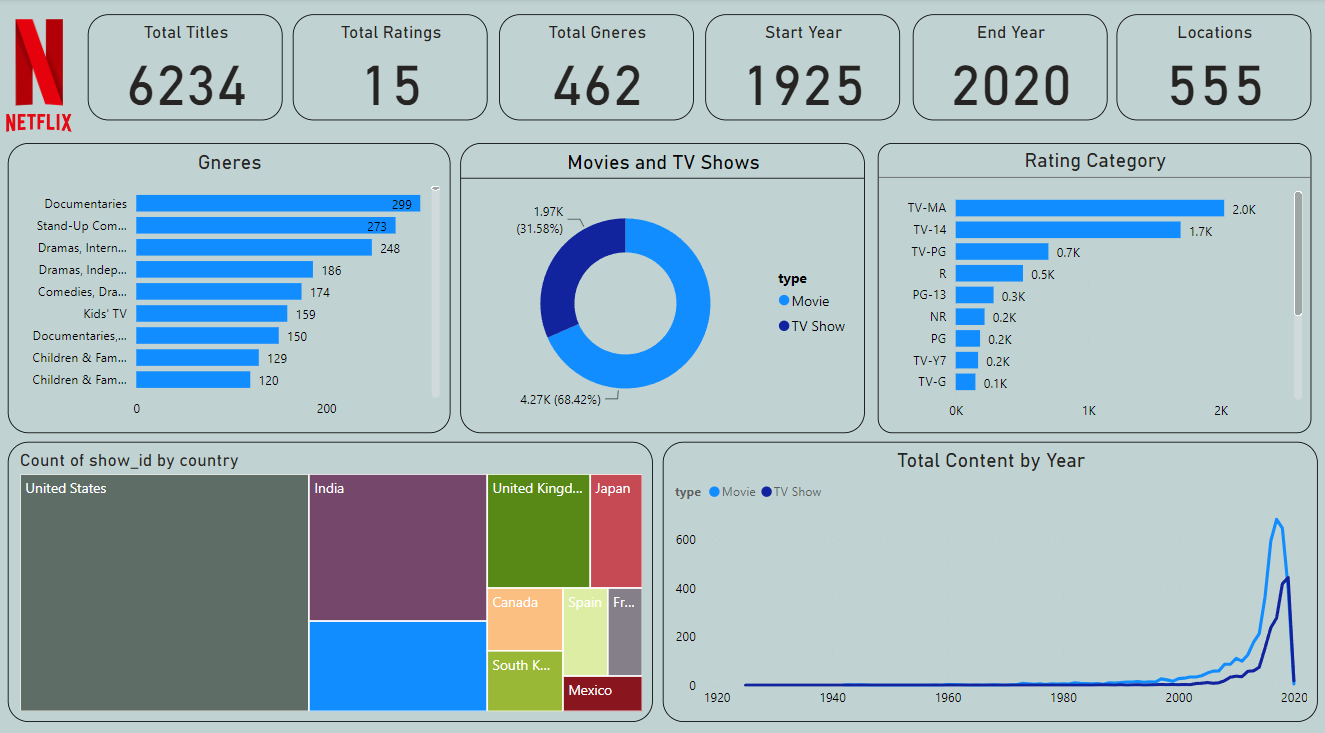

The dashboard page shown, as its layout file describes it:
{"tool":"powerbi","page":{"name":"Page 1","canvas":[1280,720],"ordinal":0},"visuals":[{"type":"donutChart","title":"Movies and TV Shows","fields":{"Y":["Count(netflix_content_data.show_id)"],"Category":["netflix_content_data.type"]},"box":[445,139.9,390.8,279.8],"z":0},{"type":"barChart","title":"Rating Category","fields":{"Category":["netflix_content_data.rating"],"Y":["Count(netflix_content_data.show_id)"]},"box":[847.8,139.9,418.5,279.8],"z":1000},{"type":"barChart","title":"Gneres","fields":{"Category":["netflix_content_data.listed_in"],"Y":["Count(netflix_content_data.show_id)"]},"box":[8.4,139.9,426.9,279.8],"z":2000},{"type":"lineChart","title":"Total Content by Year","fields":{"Category":["netflix_content_data.release_year"],"Y":["Count(netflix_content_data.show_id)"],"Series":["netflix_content_data.type"]},"box":[640.4,428.1,632,270.2],"z":3000},{"type":"treemap","fields":{"Group":["netflix_content_data.country"],"Values":["Count(netflix_content_data.show_id)"]},"box":[8.4,428.1,622.3,270.2],"z":4000},{"type":"image","box":[0,15.7,77.2,92.9],"z":5000},{"type":"image","box":[0,100.1,77.2,39.8],"z":6000},{"type":"card","title":"Total Titles","fields":{"Values":["Count(netflix_content_data.show_id)"]},"box":[85.6,15.7,188.1,102.5],"z":6001},{"type":"card","title":"Total Ratings","fields":{"Values":["Count(netflix_content_data.rating)"]},"box":[283.4,15.7,188.1,102.5],"z":6002},{"type":"card","title":"Total Gneres","fields":{"Values":["Count(netflix_content_data.listed_in)"]},"box":[482.4,15.7,188.1,102.5],"z":6003},{"type":"card","title":"Start Year","fields":{"Values":["Min(netflix_content_data.release_year)"]},"box":[681.4,15.7,188.1,102.5],"z":6004},{"type":"card","title":"End Year","fields":{"Values":["Max(netflix_content_data.release_year)"]},"box":[881.6,15.7,188.1,102.5],"z":6005},{"type":"card","title":"Locations","fields":{"Values":["Count(netflix_content_data.country)"]},"box":[1078.2,15.7,188.1,102.5],"z":6006}]}

Visuals, with their boxes in screenshot pixels (x1, y1, x2, y2), scaled from the page's 1280x720 canvas onto the 1325x733 screenshot:
"Movies and TV Shows" donutChart: crop(461, 142, 865, 427)
"Rating Category" barChart: crop(878, 142, 1311, 427)
"Gneres" barChart: crop(9, 142, 451, 427)
"Total Content by Year" lineChart: crop(663, 436, 1317, 711)
treemap - netflix_content_data.country x Count(netflix_content_data.show_id): crop(9, 436, 653, 711)
image: crop(0, 16, 80, 111)
image: crop(0, 102, 80, 142)
"Total Titles" card: crop(89, 16, 283, 120)
"Total Ratings" card: crop(293, 16, 488, 120)
"Total Gneres" card: crop(499, 16, 694, 120)
"Start Year" card: crop(705, 16, 900, 120)
"End Year" card: crop(913, 16, 1107, 120)
"Locations" card: crop(1116, 16, 1311, 120)
